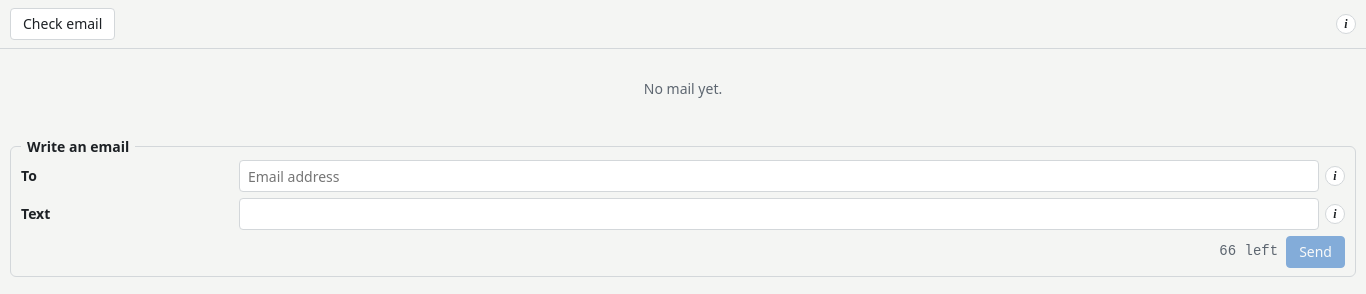
Test: Email › opens the suggestions of the address upward, inside the box
Focus the field with id "mail-to". click: (779, 176)
box: [239,160,1319,192]
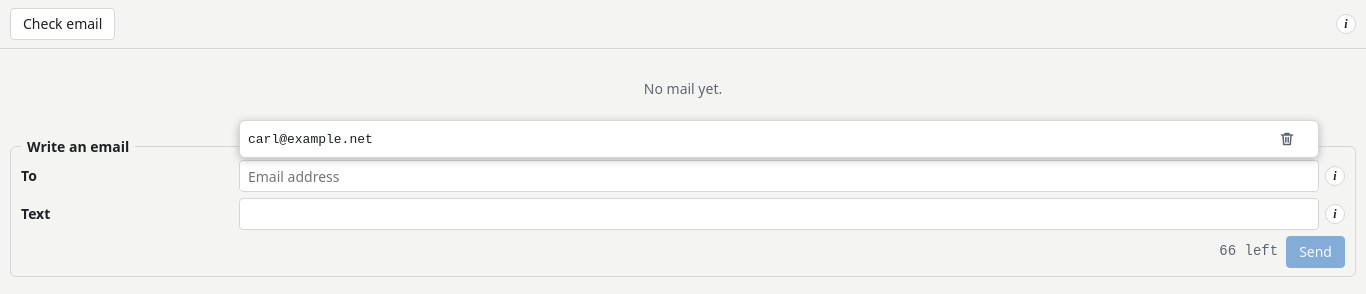
Expected: the list with class "suggestions" is shown, [239,120,1319,158]
